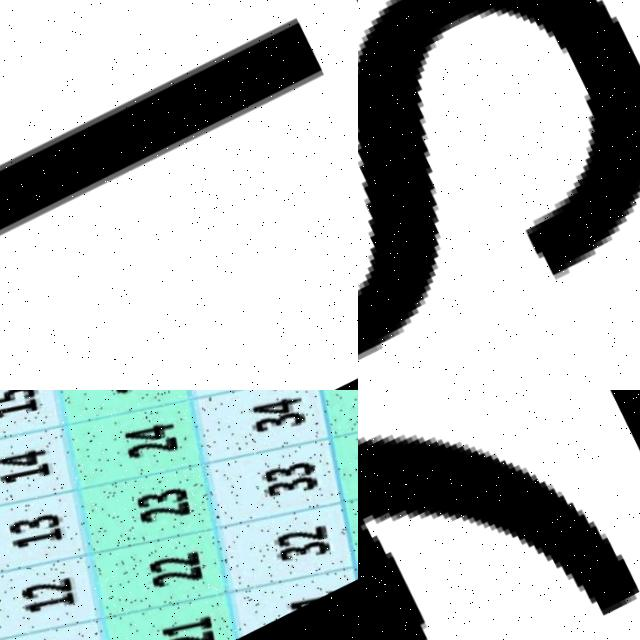1: (20, 571, 94, 632), (12, 507, 84, 565), (282, 561, 351, 613), (0, 444, 64, 500), (0, 390, 54, 441), (33, 619, 104, 640), (35, 636, 103, 640)
2: (271, 497, 349, 563), (145, 541, 223, 606), (14, 554, 90, 618), (148, 528, 221, 587), (138, 480, 207, 538), (122, 417, 188, 473), (158, 603, 236, 640), (105, 390, 178, 411)
3: (0, 486, 79, 554), (258, 435, 332, 496), (264, 451, 336, 511), (245, 390, 318, 448), (130, 465, 201, 524), (277, 517, 346, 575)
4: (0, 420, 68, 493), (120, 402, 187, 458), (250, 390, 314, 429)
5: (0, 390, 52, 425)
9: (358, 390, 640, 640)
I: (0, 9, 327, 235)
S: (358, 0, 640, 390)
